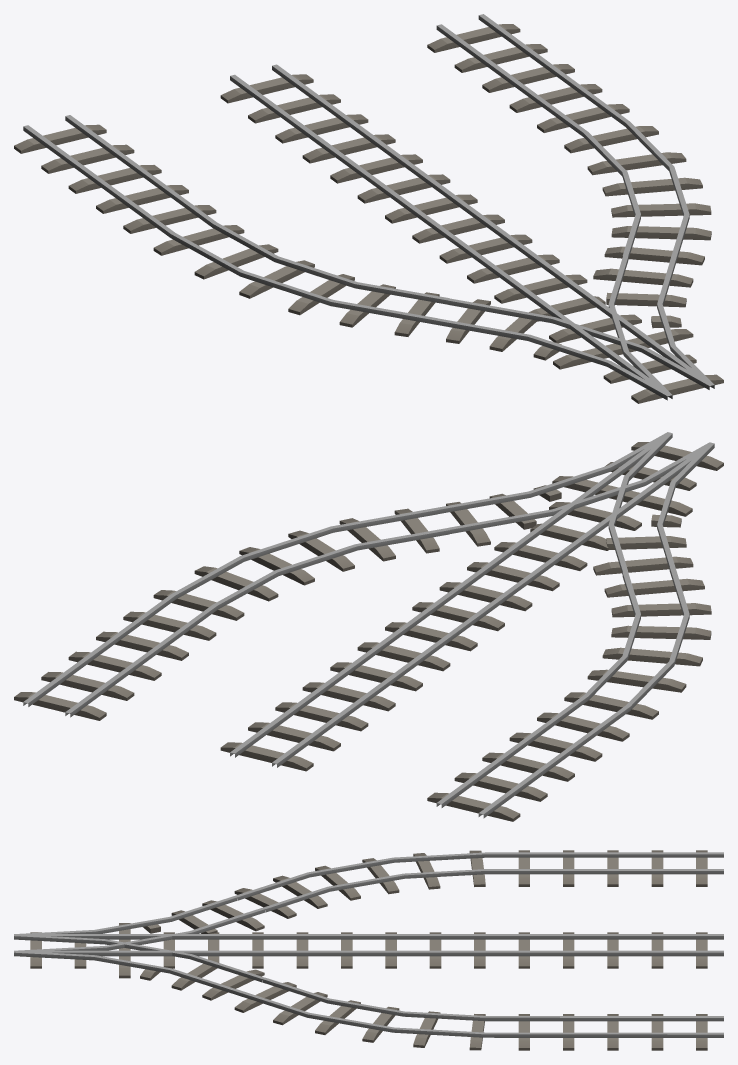
Rendered from Railway_Line_Y_D.fbx.
3 renders of one model, top to bottom at view 1: azimuth 30°, elevation 25°; view 2: azimuth 150°, elevation 25°; view 3: azimuth 270°, elevation 25°, orthographic. The views are drawn at different scales.
Visible parts, largest first — view 1: Railway_Line_Y_D; view 2: Railway_Line_Y_D; view 3: Railway_Line_Y_D.
Boxes of the visible parts, x1,y1,x2,y2 form: Railway_Line_Y_D: (14, 14, 723, 403); Railway_Line_Y_D: (14, 432, 723, 821); Railway_Line_Y_D: (14, 850, 723, 1050).
Size of the model in its own units: 2633 by 51.82 by 4000.
